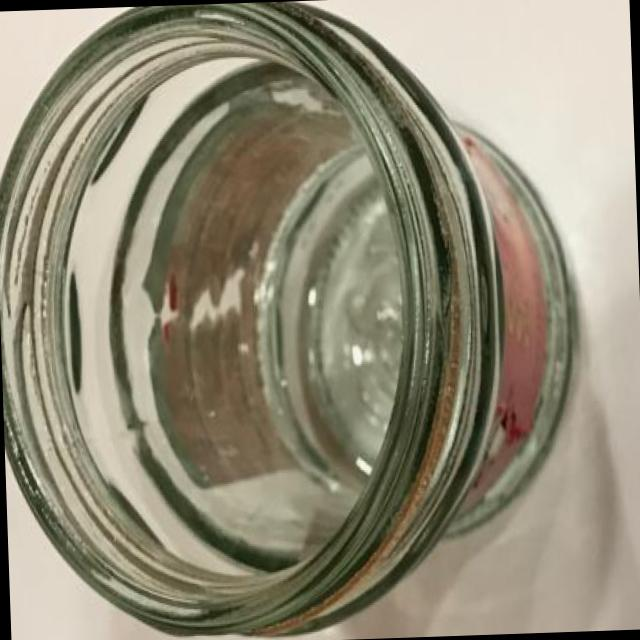chai_thuy_tinh: (0, 1, 584, 640)
